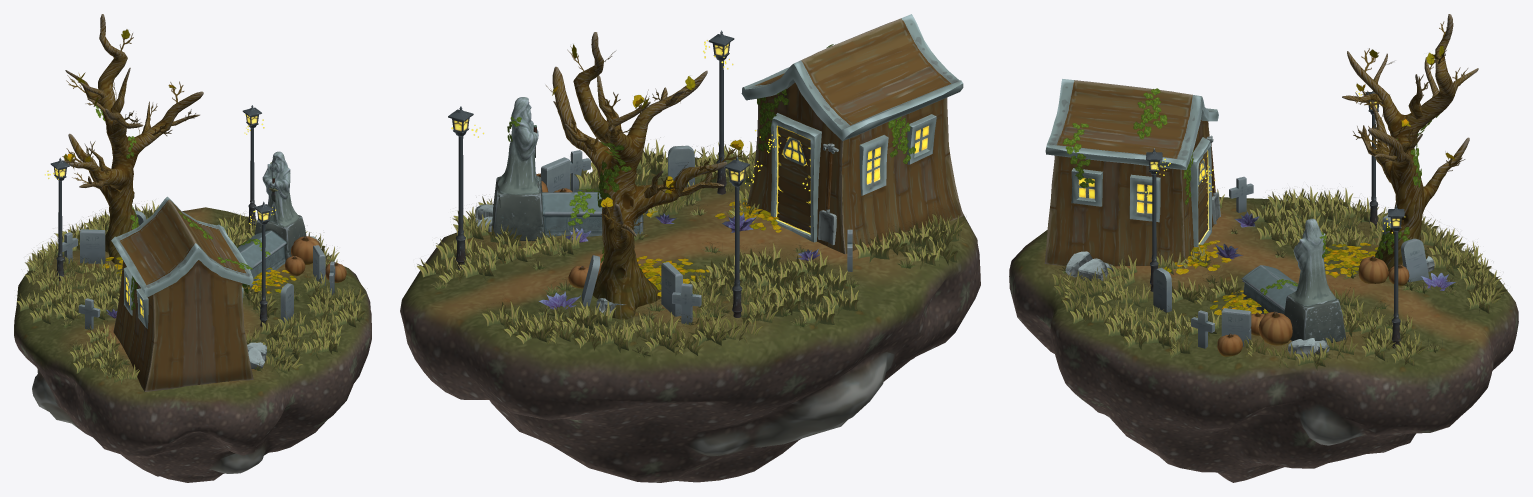
File: cabin_at_the_graveyard.glb
3 views of the same model, side by side, from view 1: azimuth 30°, elevation 25°; view 2: azimuth 150°, elevation 25°; view 3: azimuth 270°, elevation 25° (orthographic). The views are drawn at different scales.
Visible parts, largest first — view 1: 4096_4096_0, Shed_Low003, Tree4096_4096_0, Statue4096_4096_0, Graves4096_4096_0, LampPosts4096_4096_0, Pumpkin4096_4096_0; view 2: 4096_4096_0, Shed_Low003, Tree4096_4096_0, Statue4096_4096_0, Graves4096_4096_0, LampPosts4096_4096_0, Leaves_4096_0; view 3: 4096_4096_0, Shed_Low003, Tree4096_4096_0, Statue4096_4096_0, Graves4096_4096_0, Pumpkin4096_4096_0, LampPosts4096_4096_0.
Boxes of the visible parts, bbox=[...] form: 4096_4096_0: bbox=[14, 105, 371, 482]; Shed_Low003: bbox=[111, 196, 253, 391]; Tree4096_4096_0: bbox=[64, 14, 203, 264]; Statue4096_4096_0: bbox=[237, 151, 306, 287]; Graves4096_4096_0: bbox=[62, 210, 335, 329]; LampPosts4096_4096_0: bbox=[50, 105, 273, 326]; Pumpkin4096_4096_0: bbox=[285, 236, 346, 282]; 4096_4096_0: bbox=[400, 44, 980, 482]; Shed_Low003: bbox=[741, 14, 963, 254]; Tree4096_4096_0: bbox=[552, 32, 727, 319]; Statue4096_4096_0: bbox=[492, 97, 648, 241]; Graves4096_4096_0: bbox=[541, 145, 852, 324]; LampPosts4096_4096_0: bbox=[448, 30, 749, 317]; Leaves_4096_0: bbox=[552, 44, 743, 207]; 4096_4096_0: bbox=[1009, 88, 1518, 482]; Shed_Low003: bbox=[1044, 79, 1220, 267]; Tree4096_4096_0: bbox=[1342, 14, 1478, 276]; Statue4096_4096_0: bbox=[1242, 218, 1345, 343]; Graves4096_4096_0: bbox=[1153, 176, 1429, 348]; Pumpkin4096_4096_0: bbox=[1217, 256, 1409, 356]; LampPosts4096_4096_0: bbox=[1146, 91, 1404, 348].
Size of the model in its own units: 4.06 by 4.8 by 4.85.
Materials: 2 (2 with a texture image).
